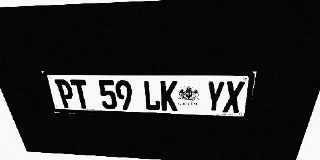5: (98, 80, 118, 109)
9: (114, 80, 134, 110)
K: (160, 80, 178, 111)
L: (143, 80, 161, 111)
P: (54, 79, 76, 108)
T: (70, 80, 91, 109)
X: (222, 81, 245, 113)
Y: (205, 81, 225, 112)
